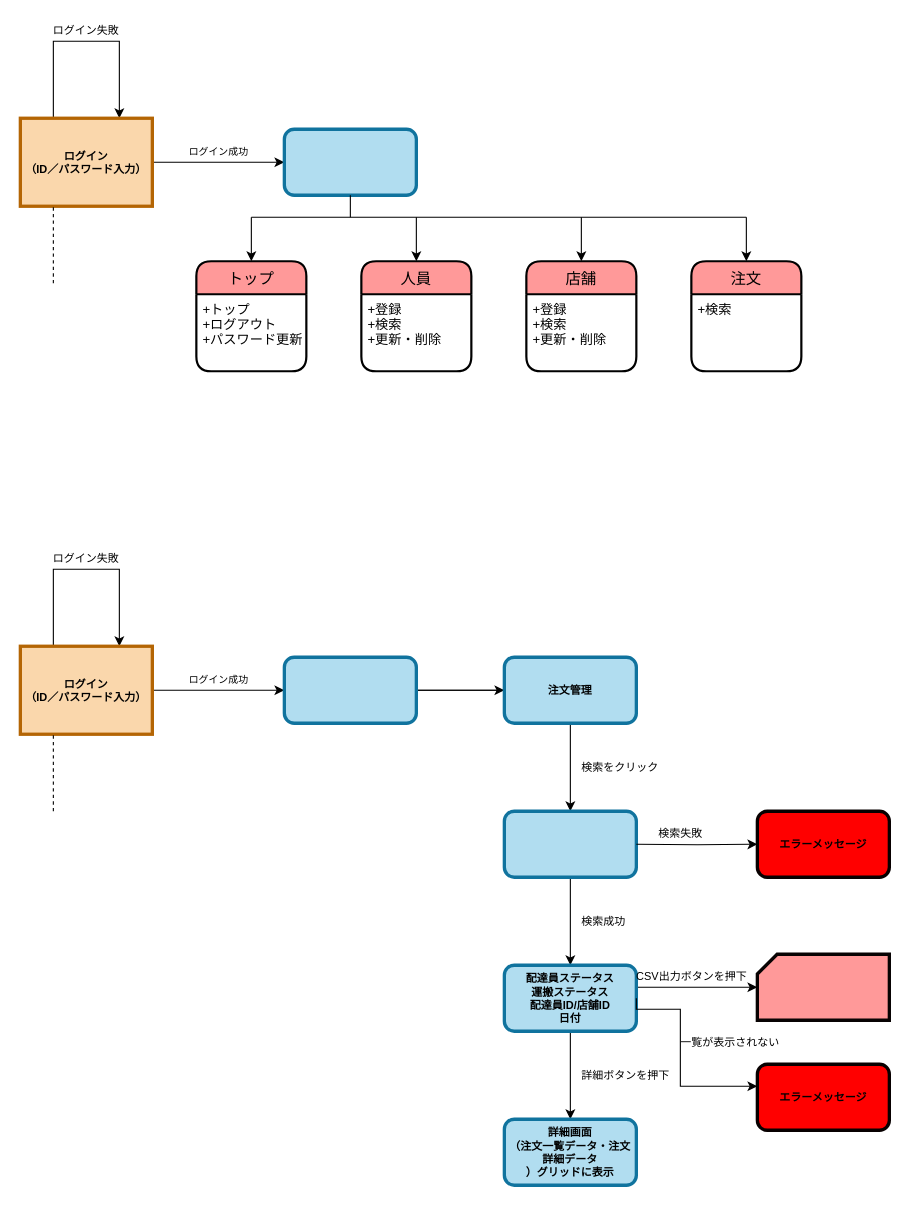
The diagram is 910 pixels wide and 1206 high, and some of its shapes have lost their labels. Here are the shapes that lost their labels. From the top down, the centre of each, then its label:
point (349, 161): （メインメニュー） コンテンツ選択
point (349, 689): トップ （メインメニュー） コンテンツ選択
point (569, 843): 検索画面 （検索項目入力．検索）
point (822, 986): 画面一連情報 （CSVで出力）
